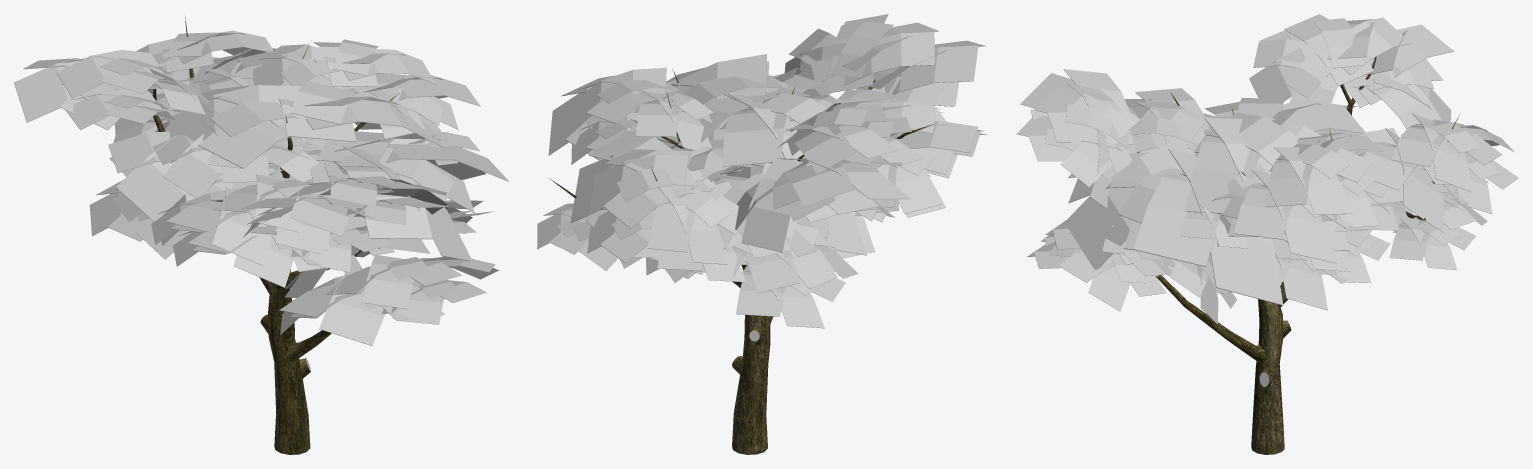
File: Tree.fbx
3 renders of one model, left to right at view 1: azimuth 30°, elevation 25°; view 2: azimuth 150°, elevation 25°; view 3: azimuth 270°, elevation 25°, orthographic. The views are drawn at different scales.
Parts seen in each view (by area): view 1: Tree_1_10; view 2: Tree_1_10; view 3: Tree_1_10.
Part boxes in pixels (x1,y1,x2,y2): Tree_1_10: (14, 17, 508, 454); Tree_1_10: (537, 14, 987, 454); Tree_1_10: (1016, 14, 1518, 454).
Bounding box in the file's own units: 2516 × 2351 × 2957.
